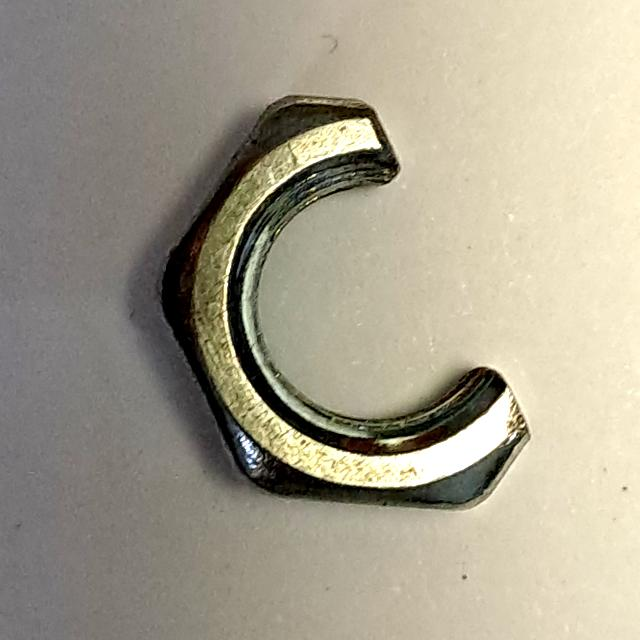Fracture: (143, 79, 544, 537)
